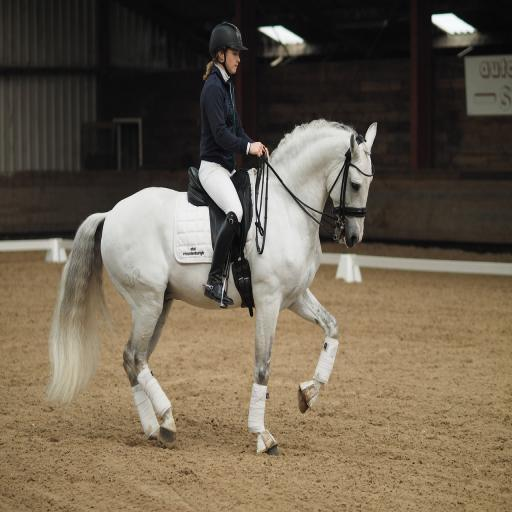horse: (46, 118, 380, 457)
